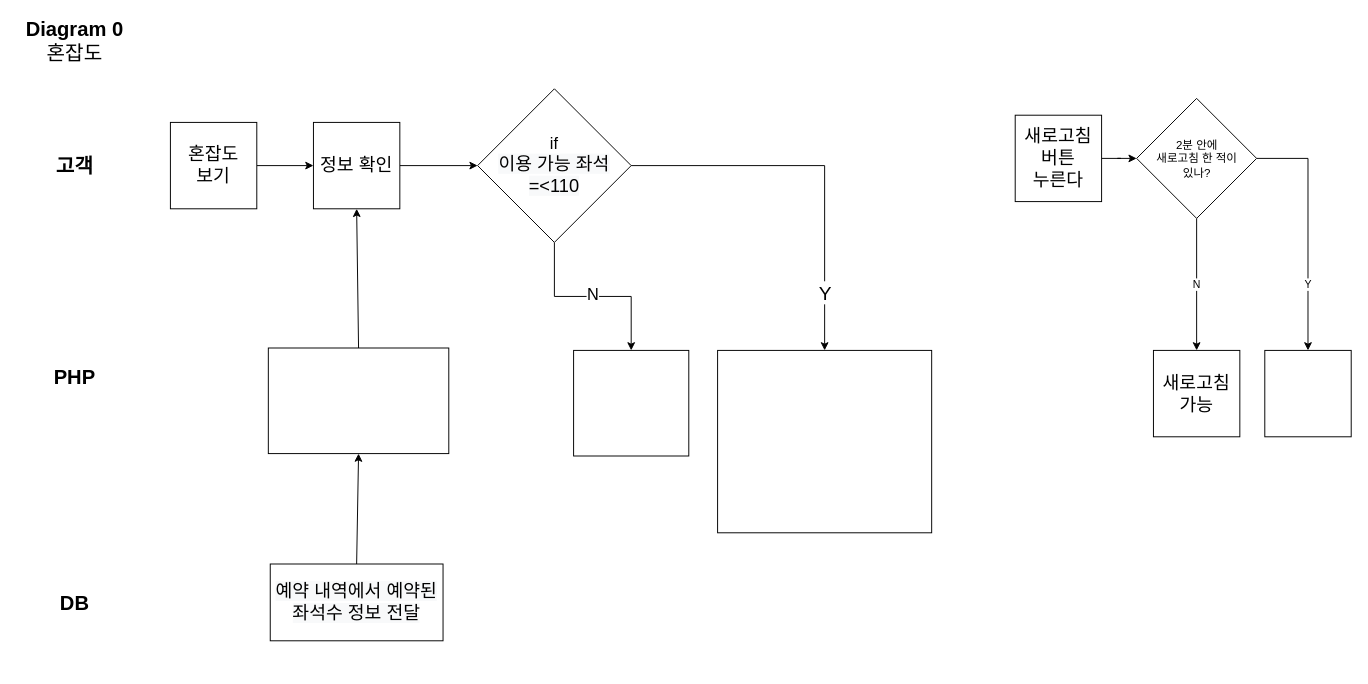
Some shapes in this 1368 by 684 pixel diagram are drawn without their labels. Here are the shapes that lost their labels. From the top down, the box of each, then its label:
(267, 347, 449, 454): "현재 이용중인 좌석/전체 좌석" 형태로 출력
(573, 349, 689, 456): 예약 진행
(1264, 349, 1351, 437): 새로고침 불가능
(717, 349, 932, 533): "학식당이 혼잡합니다." 메시지와 주변 1km 이내 음식점 정보 전달
